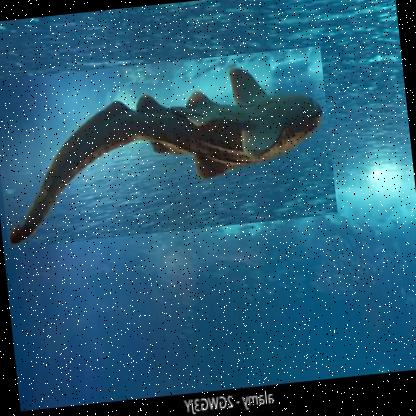zebra_shark: (0, 45, 338, 250)
